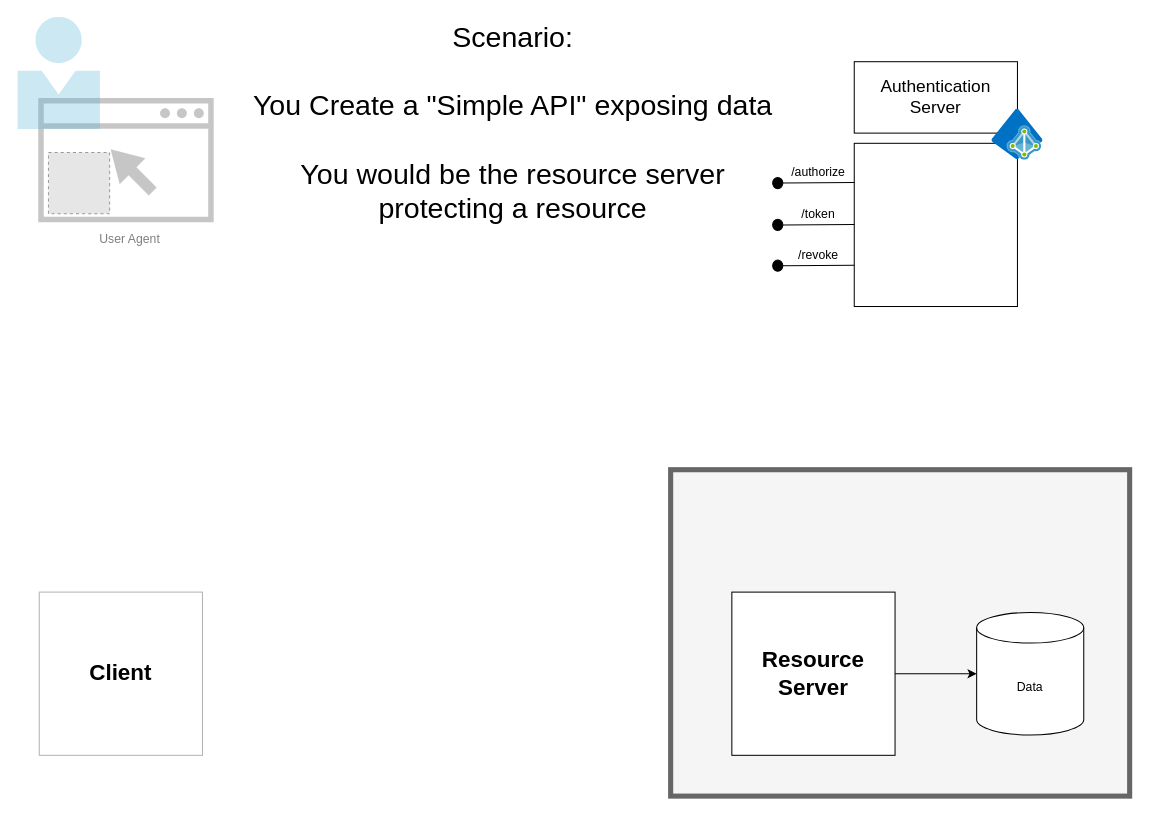
This 1150x816 diagram has some shape labels left out. Grey dashed boxes stand in for pictures. Each missing label, with the centre of its shape:
Authorization Server: the point at 935,224
RO: the point at 58,73
